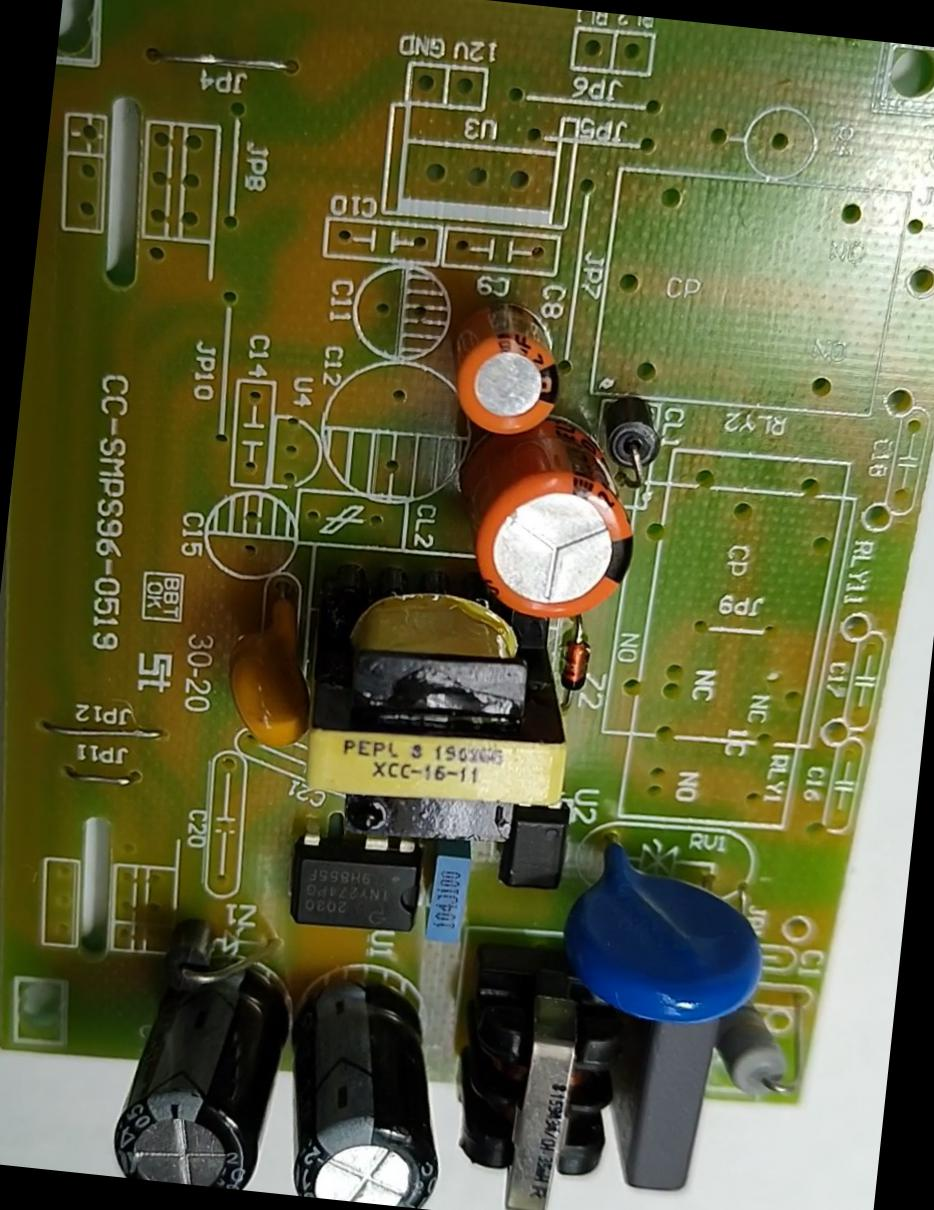Cap1: (448, 410, 653, 632)
Cap2: (440, 281, 566, 446)
Cap3: (270, 952, 462, 1209)
Cap4: (112, 936, 302, 1192)
MOSFET: (280, 824, 432, 942)
Mov: (557, 830, 780, 1035)
Resistor: (710, 1002, 814, 1102)
Transformer: (283, 549, 596, 868), (442, 933, 643, 1209)
